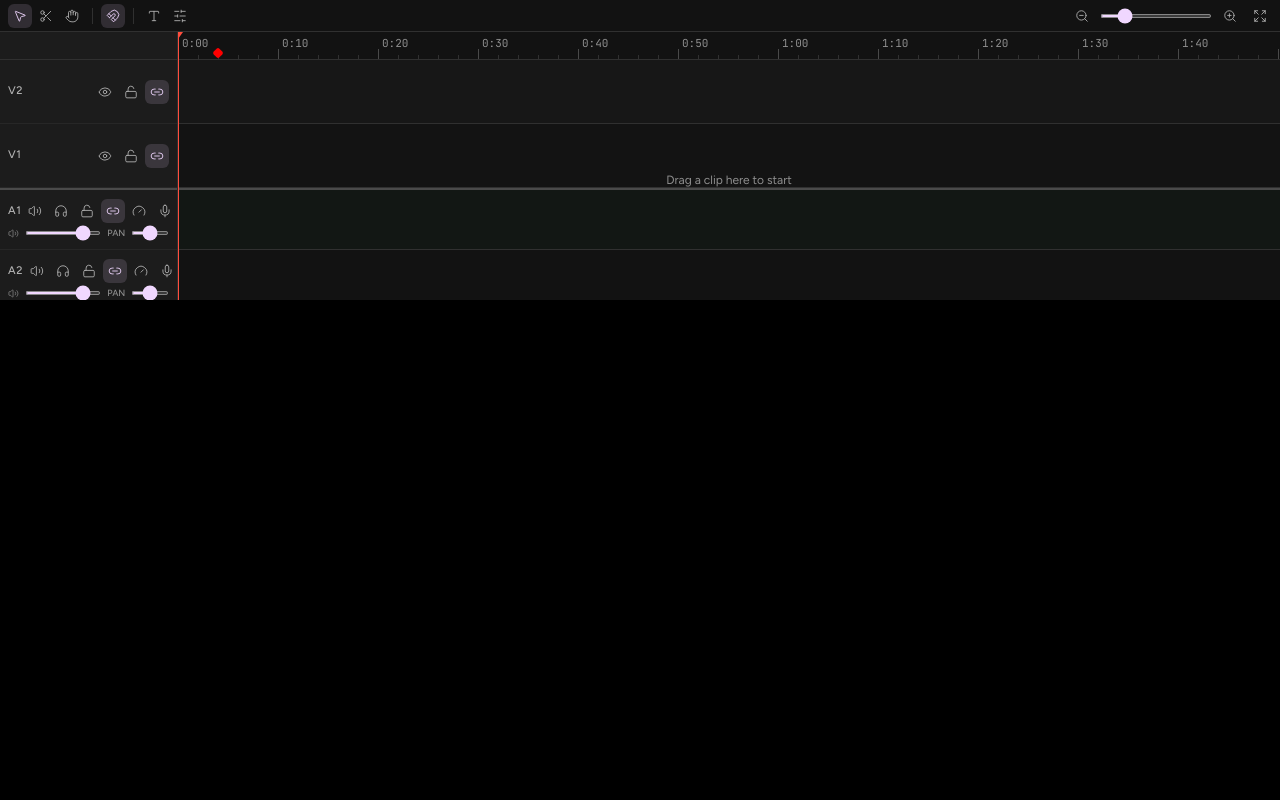
Test case: Timeline › a marker on the ruler › a named marker can lose its name: an empty name saves as none
The width and height of the screenshot is (1280, 800).
Right-click the element with test id "marker".
right_click(218, 53)  # box x1=212 y1=47 x2=224 y2=59
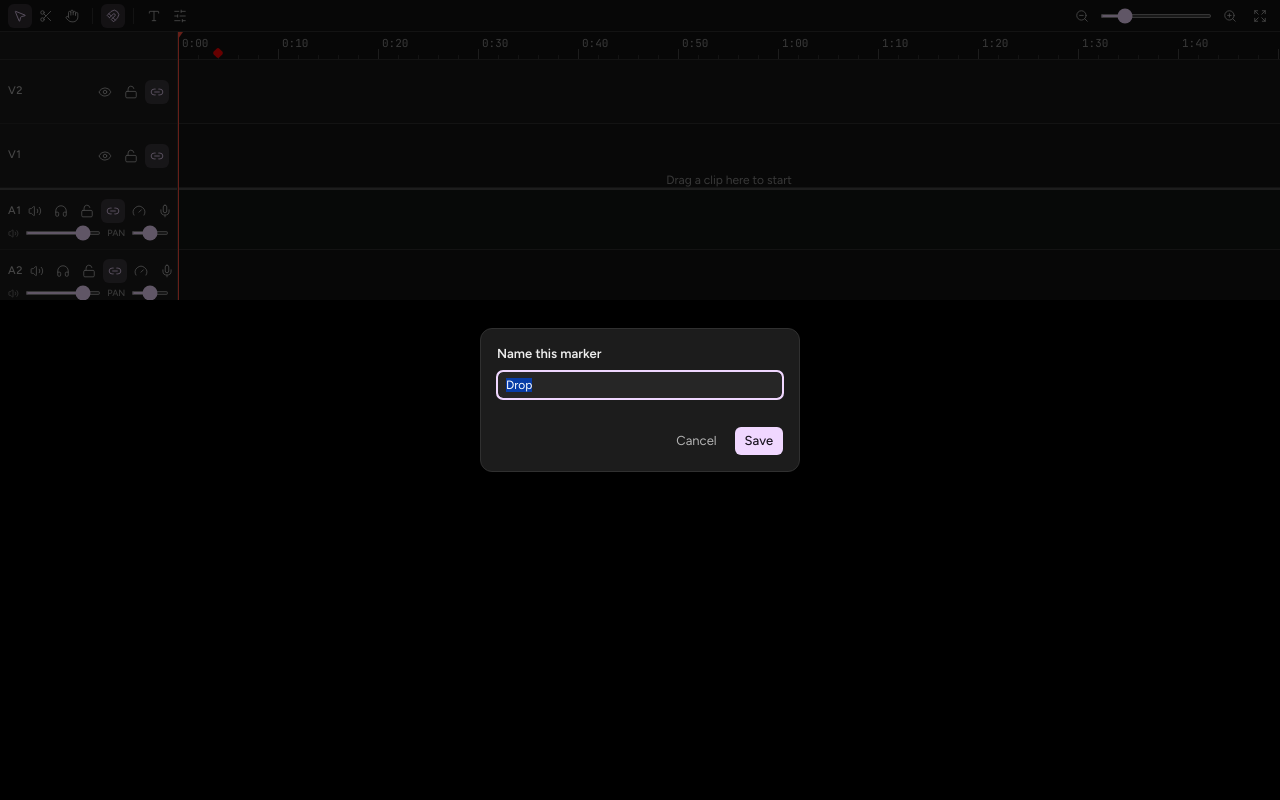
Clear the field with test id "name-prompt-input" at {"x": 640, "y": 385}, box x1=497 y1=371 x2=783 y2=399
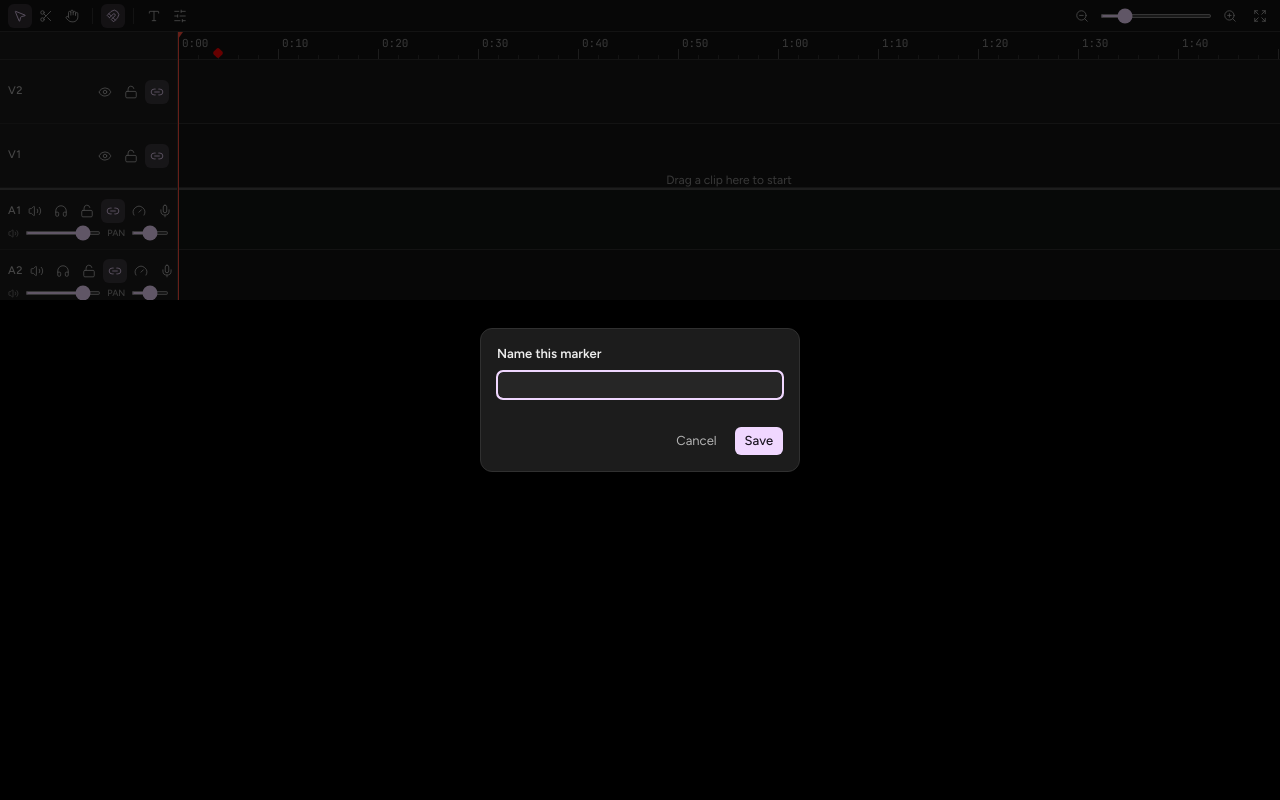
Click the button with test id "name-prompt-save".
click(759, 441)  # box x1=735 y1=427 x2=783 y2=455
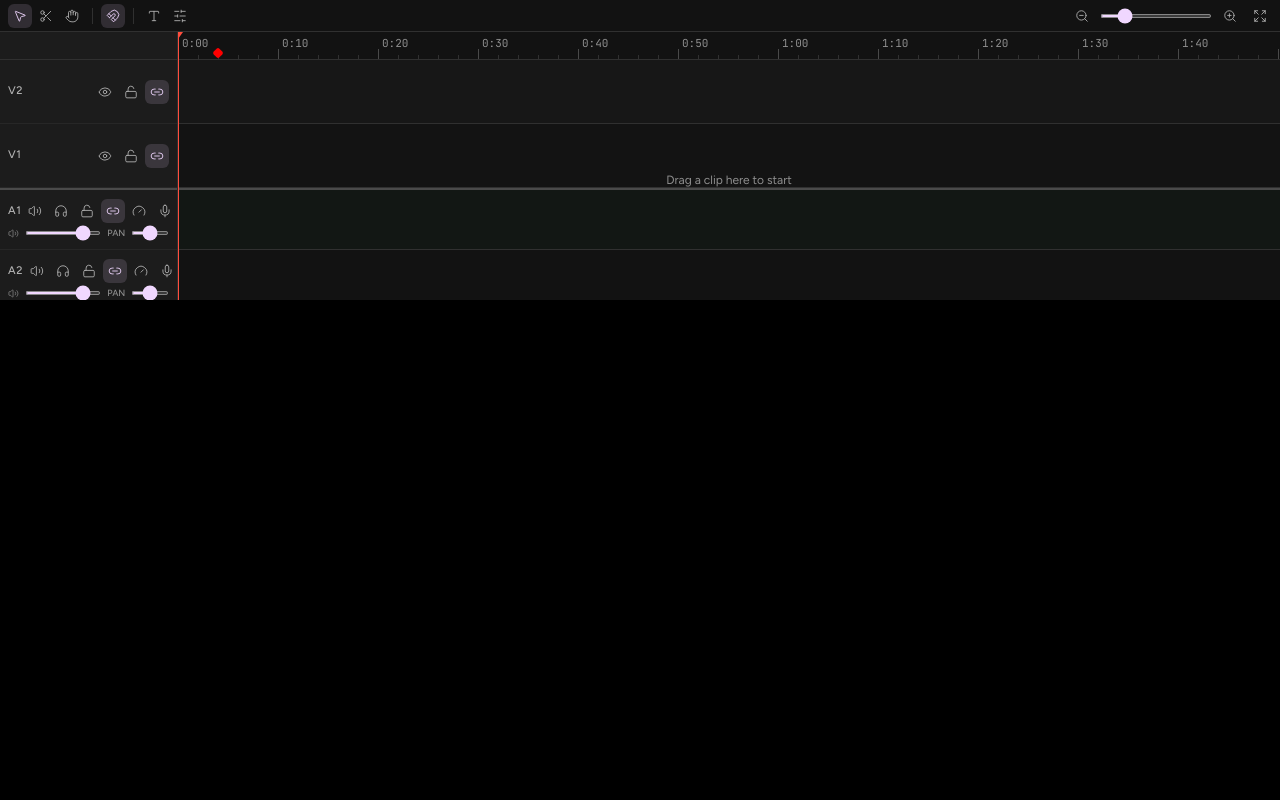
Now the dialog with test id "name-prompt" is gone
